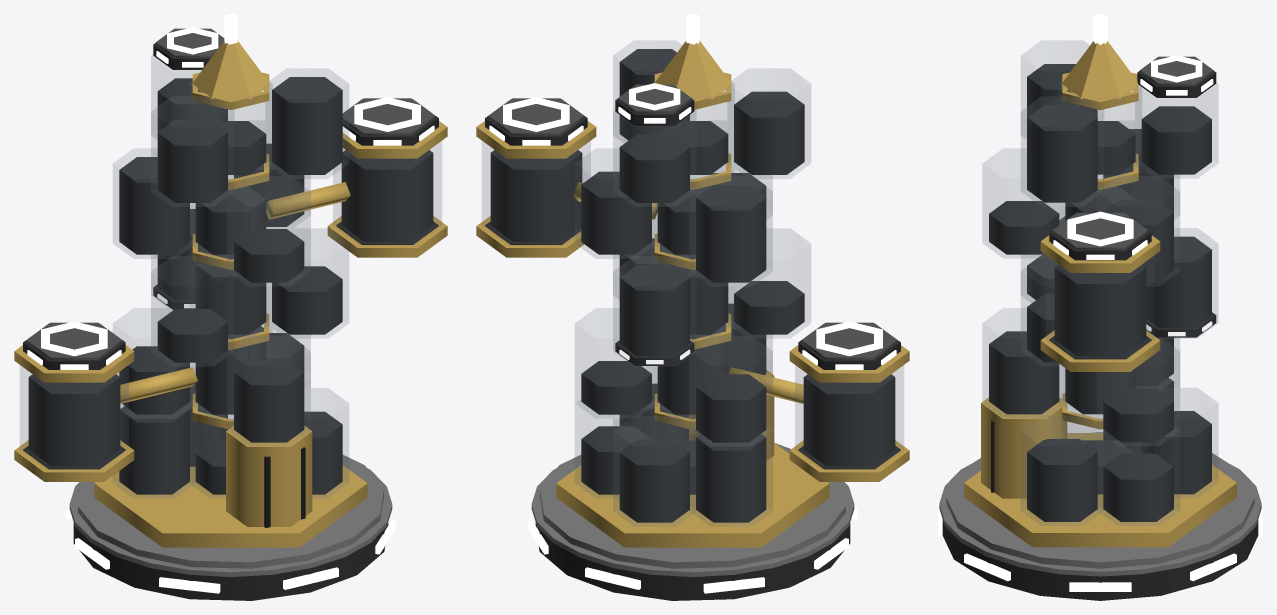
File: Skin_Hive_T2.glb
3 views of the same model, side by side, from view 1: azimuth 30°, elevation 25°; view 2: azimuth 150°, elevation 25°; view 3: azimuth 270°, elevation 25° (orthographic).
Visible parts, largest first — view 1: Skin_Hive_T2; view 2: Skin_Hive_T2; view 3: Skin_Hive_T2.
Part boxes in pixels (box(x1,y1,x2,y2)): Skin_Hive_T2: box(14, 14, 447, 600); Skin_Hive_T2: box(476, 14, 909, 600); Skin_Hive_T2: box(938, 14, 1262, 600).
Size of the model in its own units: 5.28 by 6.48 by 3.68.
